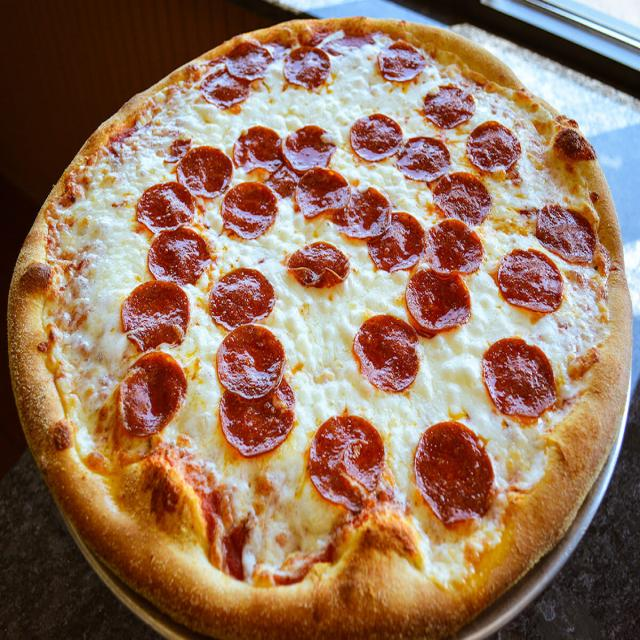pepperoni: (414, 420, 495, 525), (309, 412, 387, 516), (218, 378, 300, 460), (481, 336, 557, 418), (349, 311, 422, 396), (115, 351, 187, 436), (215, 321, 290, 400), (121, 278, 195, 353), (497, 247, 566, 327), (405, 266, 473, 340), (208, 265, 276, 335), (538, 198, 600, 268), (427, 165, 492, 228), (370, 210, 428, 274), (149, 225, 208, 286), (282, 116, 339, 178), (426, 217, 482, 277), (465, 118, 523, 174), (347, 110, 405, 166), (296, 166, 354, 222), (285, 236, 347, 288), (333, 185, 390, 241), (135, 180, 194, 234), (233, 121, 287, 179), (222, 180, 272, 236), (177, 146, 230, 198), (202, 64, 254, 114), (423, 82, 472, 134), (285, 42, 332, 94), (401, 133, 448, 185), (376, 36, 424, 81), (228, 39, 273, 84)
pizza: (6, 15, 633, 640)
